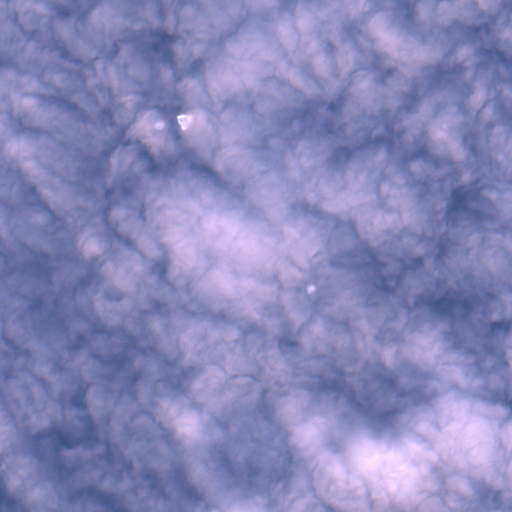Iceberg: (177, 115, 193, 129)
